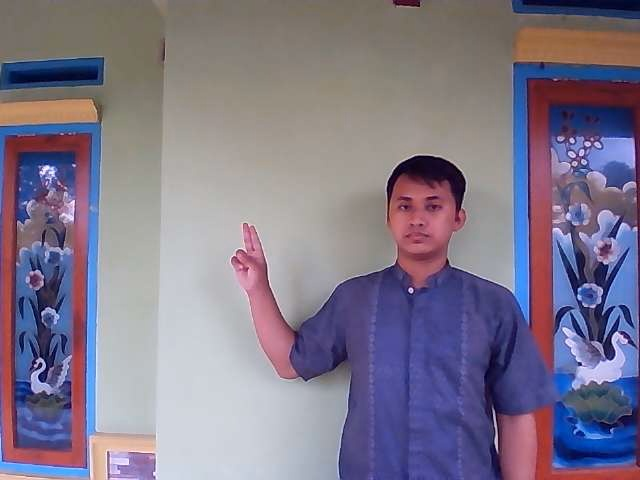U: (229, 221, 267, 289)
